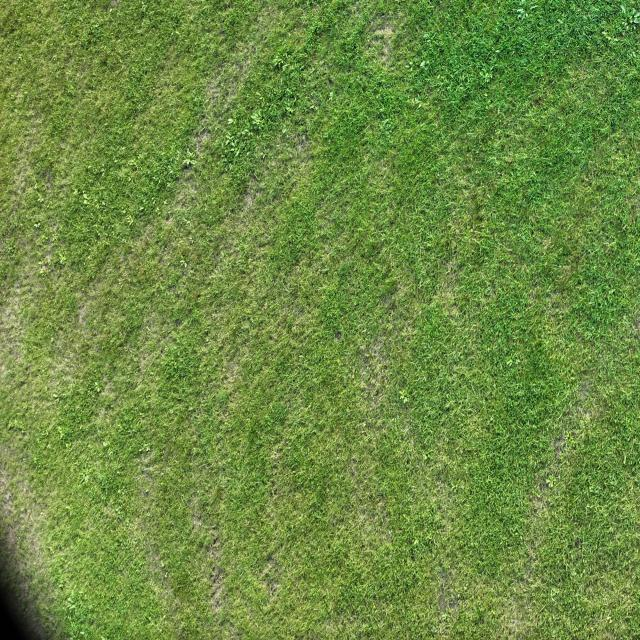rumex: (200, 338, 320, 510), (258, 311, 354, 443), (472, 88, 565, 210), (558, 225, 640, 344), (149, 336, 211, 404), (151, 203, 205, 276), (68, 3, 123, 53), (48, 394, 90, 454), (260, 66, 305, 121), (585, 4, 637, 48), (36, 210, 68, 265), (61, 588, 94, 632), (288, 23, 322, 65), (76, 184, 108, 222), (403, 50, 431, 88), (221, 122, 250, 157), (210, 2, 239, 30), (171, 207, 195, 231), (513, 2, 536, 23), (622, 2, 640, 27), (6, 416, 28, 434), (250, 112, 264, 128), (308, 21, 320, 39), (10, 210, 20, 228), (380, 116, 392, 130), (182, 156, 196, 168), (273, 57, 284, 70), (168, 359, 178, 373), (481, 65, 491, 79), (65, 600, 75, 614), (126, 159, 138, 170), (398, 390, 409, 402), (56, 426, 65, 440), (125, 215, 135, 227), (589, 484, 601, 494), (439, 612, 449, 624), (378, 106, 387, 119), (104, 447, 114, 458), (225, 133, 234, 145), (412, 536, 421, 548), (604, 34, 614, 44), (604, 614, 613, 625), (8, 242, 16, 254), (417, 278, 425, 290), (496, 106, 503, 119), (7, 419, 16, 429), (81, 474, 90, 484), (327, 90, 335, 101), (39, 263, 47, 274), (140, 4, 148, 15), (403, 514, 411, 525), (48, 544, 56, 555), (547, 476, 555, 487), (621, 2, 627, 16), (484, 288, 493, 297), (68, 86, 76, 96), (421, 32, 431, 40), (139, 445, 148, 453), (146, 615, 154, 624), (506, 358, 513, 368), (22, 401, 29, 411), (414, 101, 422, 109), (172, 30, 180, 38), (517, 12, 525, 20), (66, 596, 74, 604), (405, 62, 413, 70), (557, 18, 564, 27), (165, 180, 172, 189), (419, 60, 426, 69), (529, 4, 538, 11), (96, 229, 102, 239), (94, 382, 100, 392), (88, 272, 94, 282), (536, 489, 542, 499), (37, 196, 44, 204), (167, 166, 173, 175), (82, 193, 88, 202), (227, 117, 234, 124), (118, 488, 124, 496), (53, 393, 59, 401), (159, 560, 165, 568), (622, 452, 626, 464), (98, 168, 104, 175), (121, 208, 127, 215), (46, 443, 52, 450), (10, 92, 15, 100), (192, 446, 197, 454), (116, 423, 122, 429), (72, 188, 78, 194), (34, 222, 40, 228), (145, 445, 150, 452), (52, 55, 57, 62), (139, 207, 144, 213), (18, 54, 22, 61)
